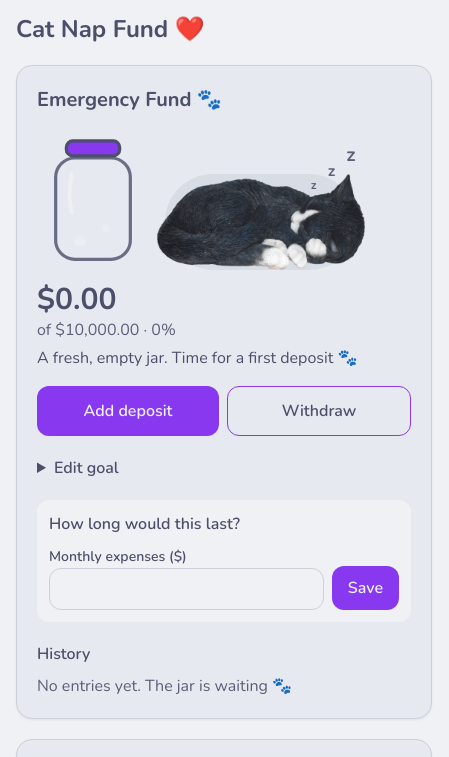
Test: dashboard › withdrawals reduce the balance
Click the button "Add deposit": (128,411) [37,386,219,436]
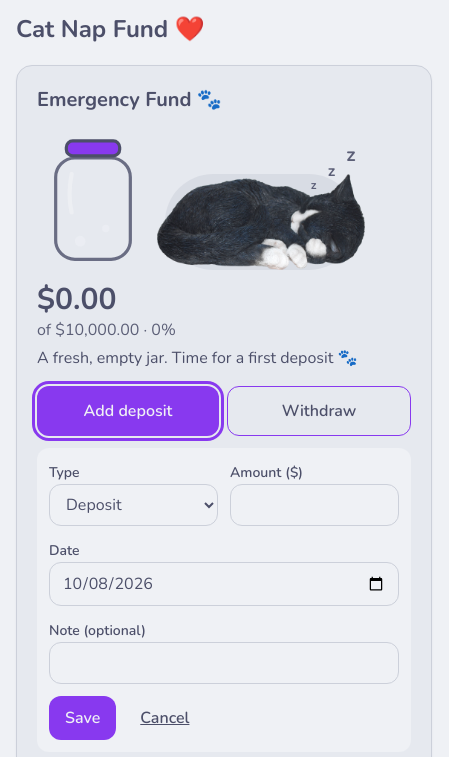
In the field labelled "Amount ($)": (314,505) [230,484,399,526], type "500"
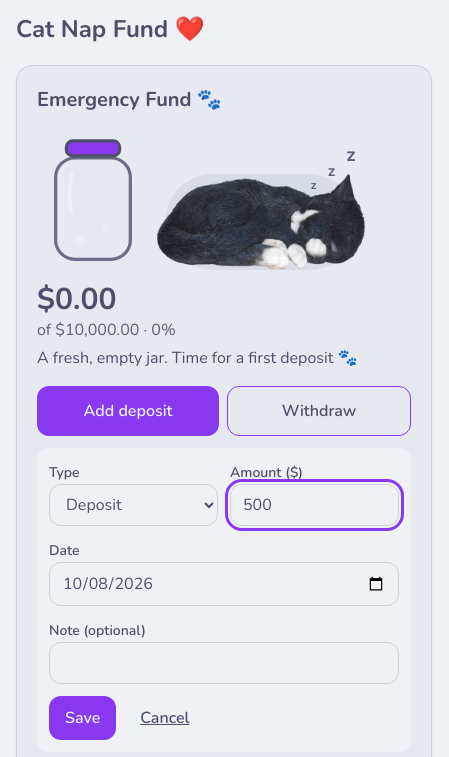
Click the button "Save": (83,718) [49,696,116,740]
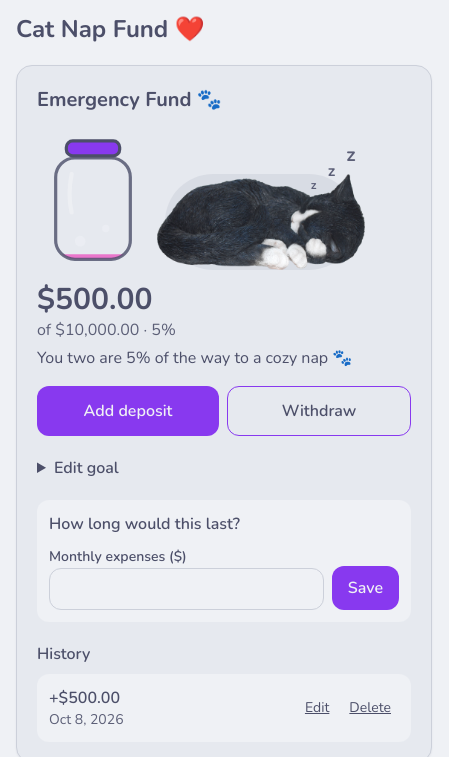
Click the button "Withdraw": (319,411) [227,386,411,436]
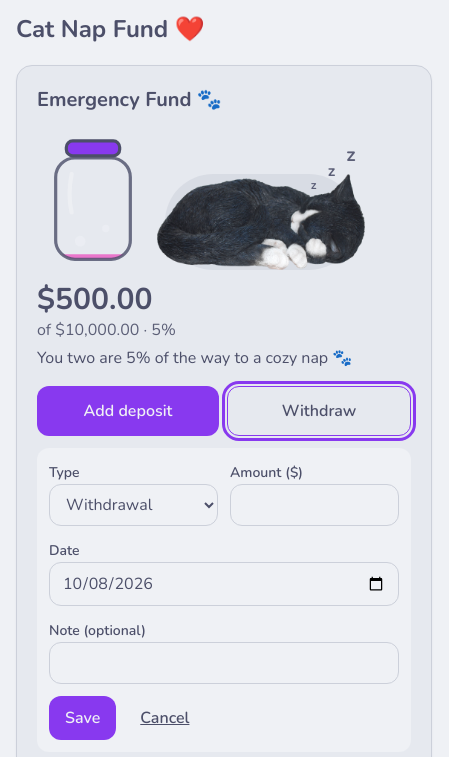
In the field labelled "Amount ($)": (314,505) [230,484,399,526], type "120.50"
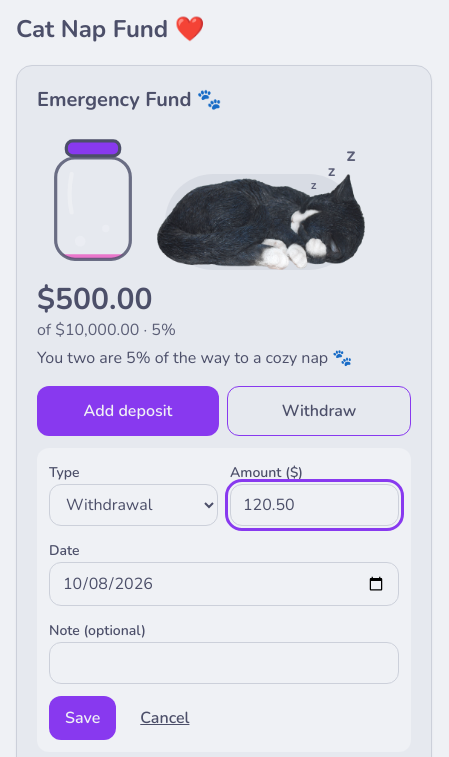
Click the button "Save": (83,718) [49,696,116,740]
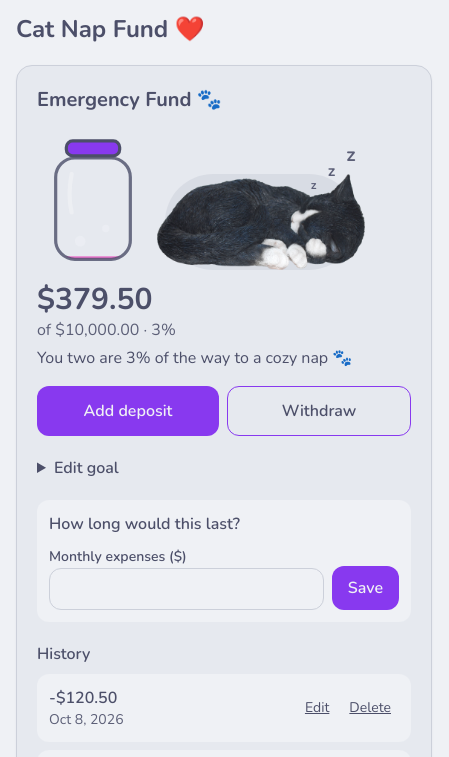
Check: the text with test id "emergency-balance" reads "$379.50", box [37,279,152,320]
